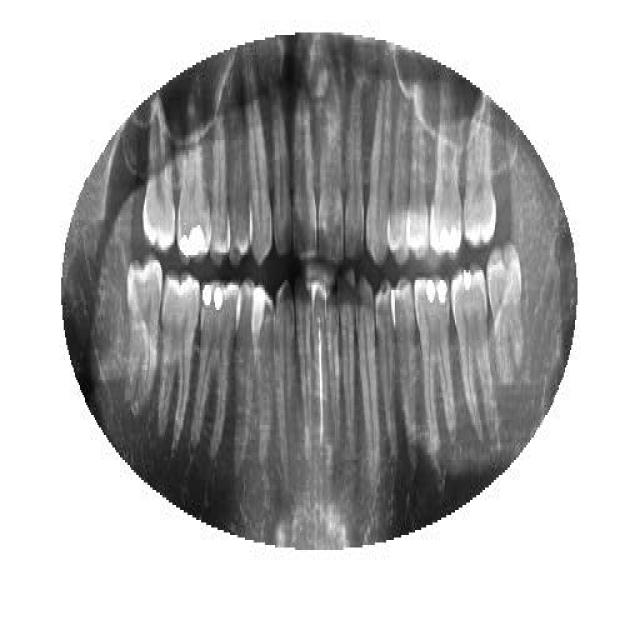Fillings: (449, 265, 501, 445), (192, 277, 240, 455), (414, 275, 454, 450), (178, 92, 214, 260), (430, 113, 464, 255)
